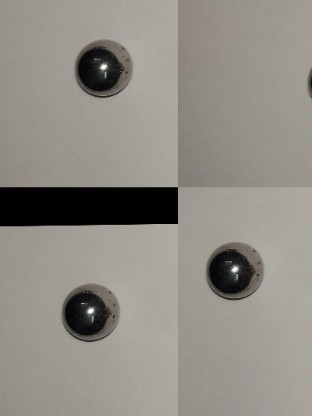ironball: (71, 36, 137, 98), (202, 239, 264, 299), (61, 282, 121, 343)
